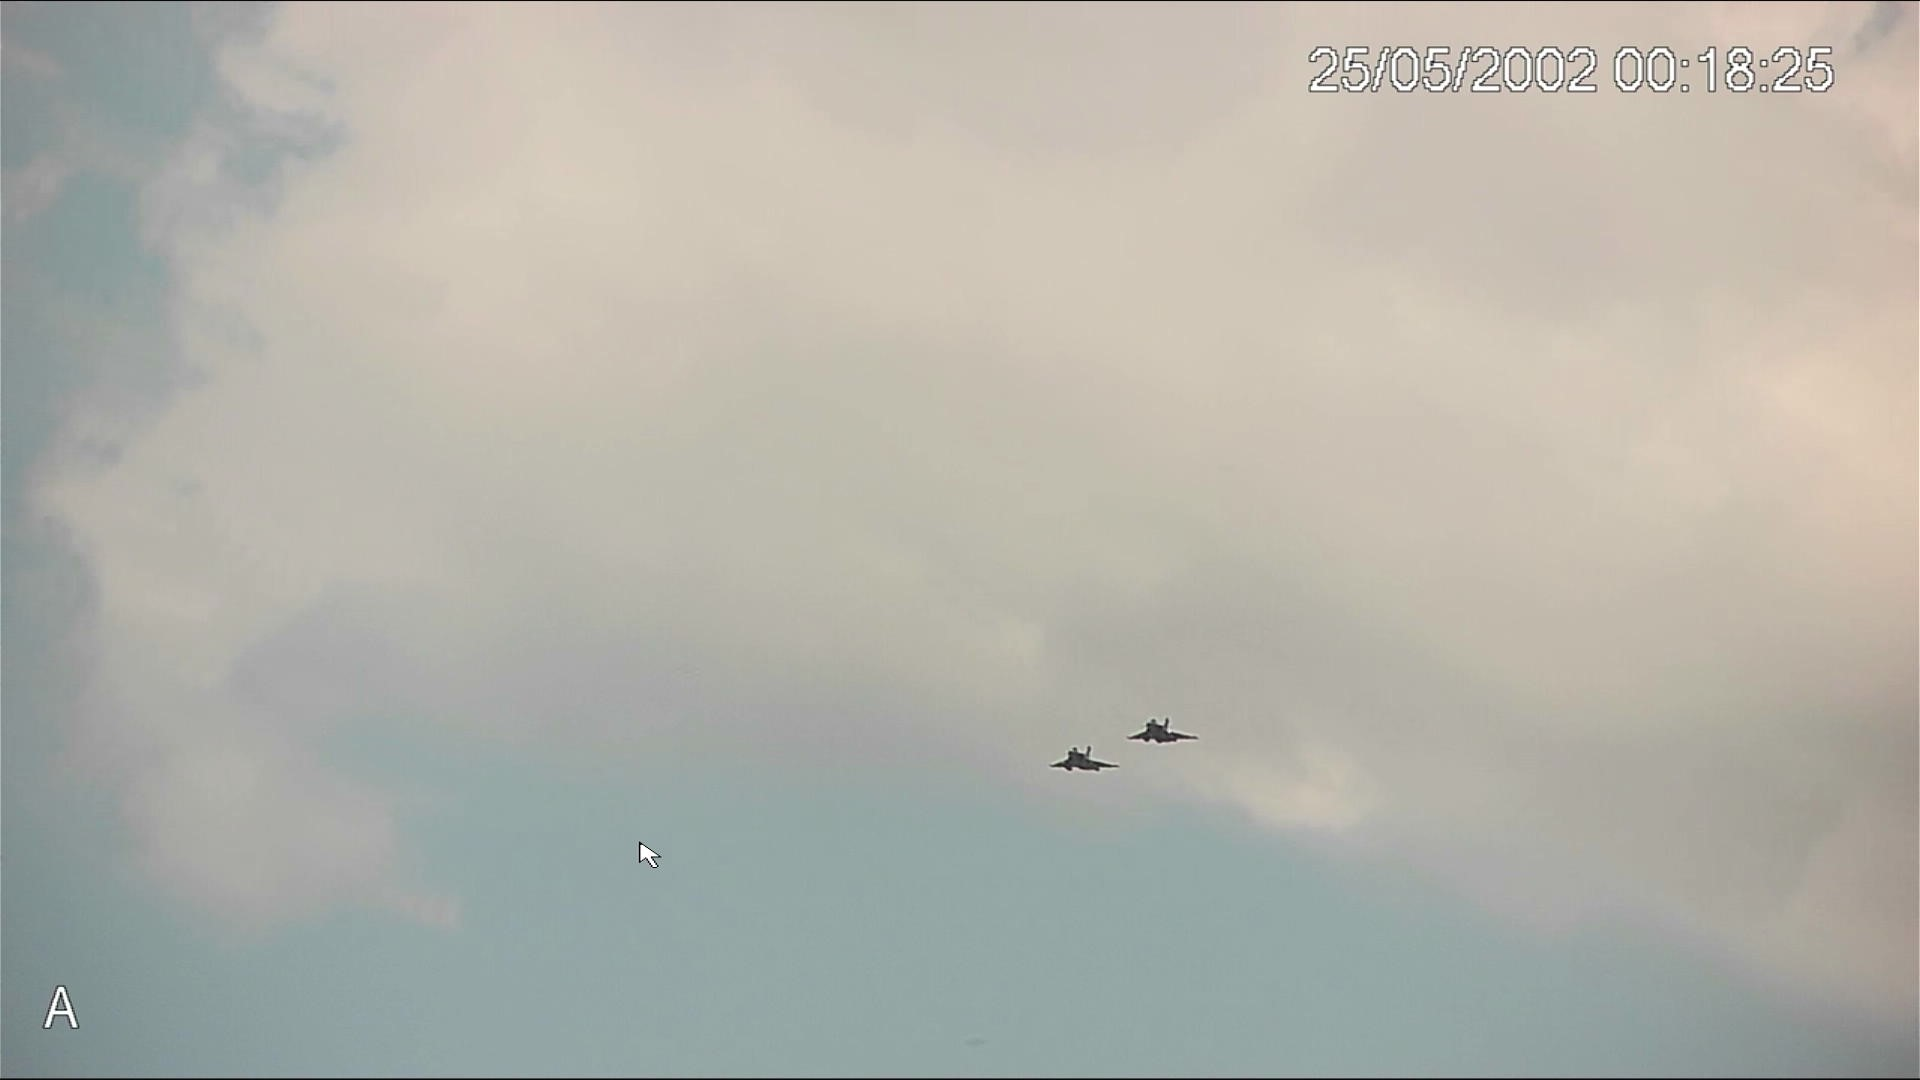SU_30: (1126, 716, 1197, 749), (1048, 742, 1120, 775)
